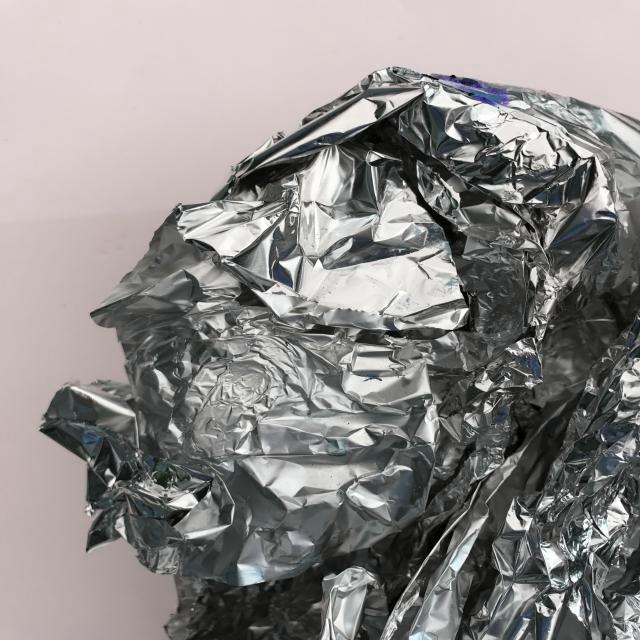metal: (24, 59, 640, 640)
